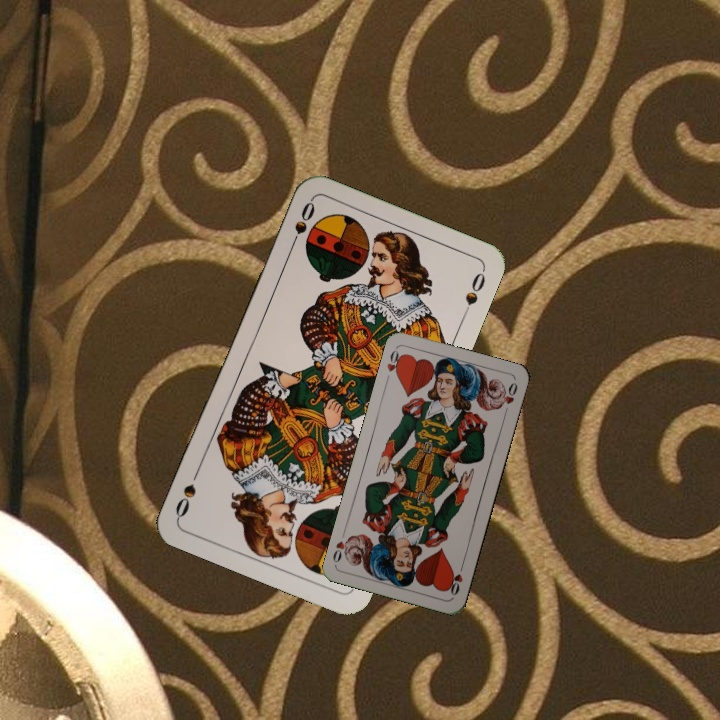HO: (382, 344, 406, 384), (444, 559, 466, 598)
SO: (285, 197, 318, 253)
